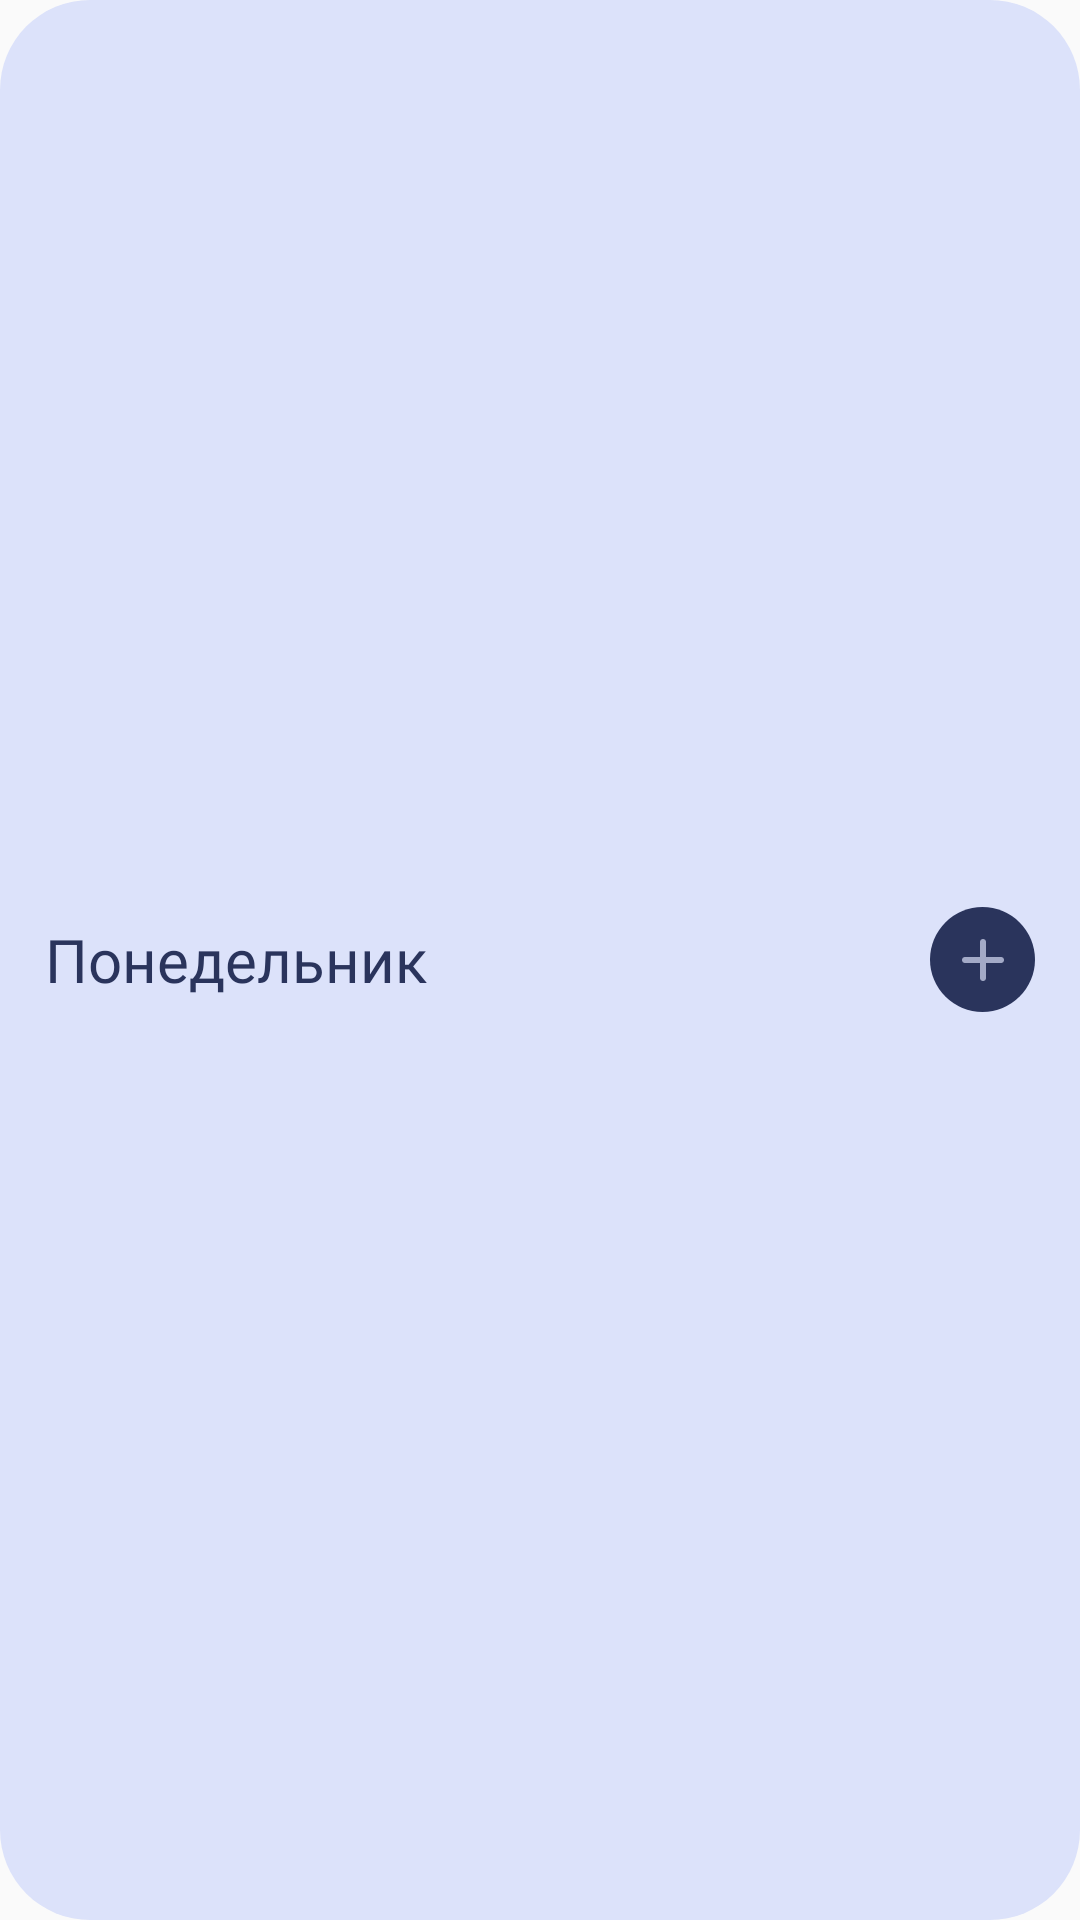

Screen size 1080 x 1920. Icon name, then its box in pixels as (x1, y1, x2, y2):
add: (930, 907, 1035, 1012)
